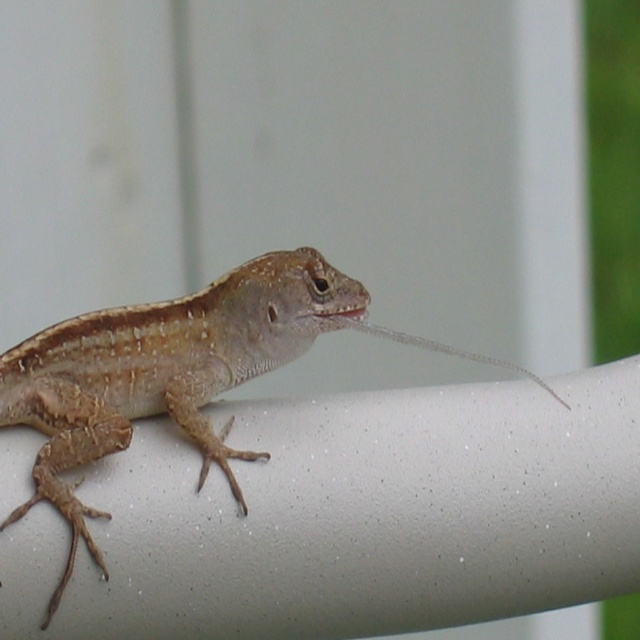Lizard: (1, 243, 370, 634)
